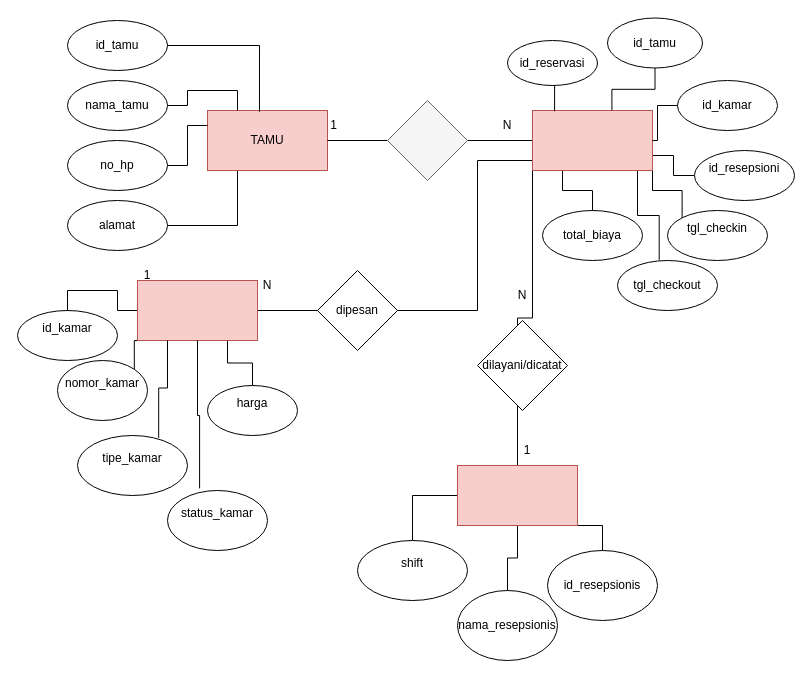
Some shapes in this 812 by 678 pixel diagram are drawn without their labels. Here are the shapes that lost their labels. From the top down, the centre of each, then its label:
At point 427,140: "melakukan".
At point 592,140: "RESERVASI".
At point 197,310: "KAMAR".
At point 517,495: "RESEPSIONIS".
